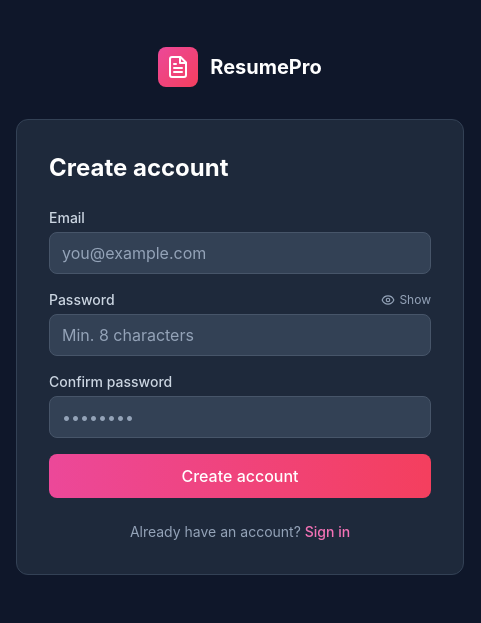
Test: Register page › shows API error on failed registration
Type "taken@user.com" into the field with placeholder "you@example.com". click: point(240, 253)
box: [49,232,431,274]
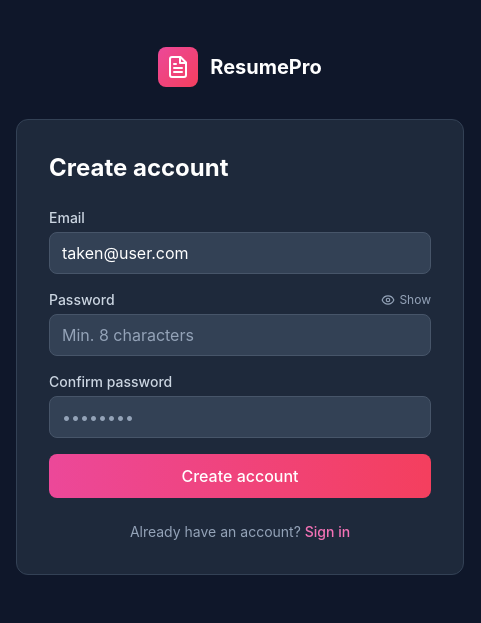
Type "password123" into the password field with placeholder "Min. 8 characters". click: point(240, 335)
box: [49,314,431,356]
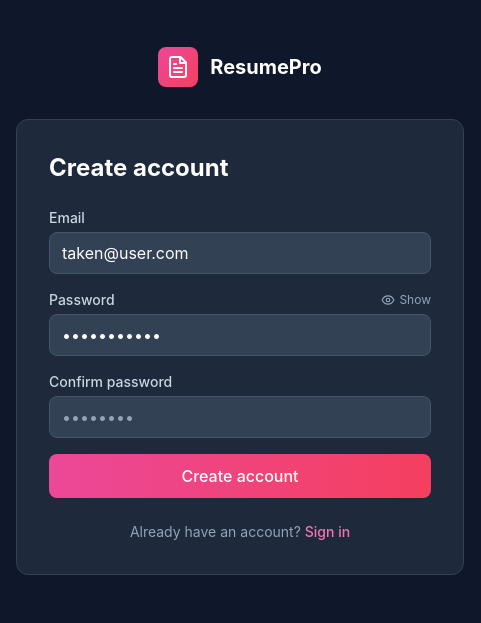
Type "password123" into the password field with placeholder "••••••••". click: point(240, 417)
box: [49,396,431,438]
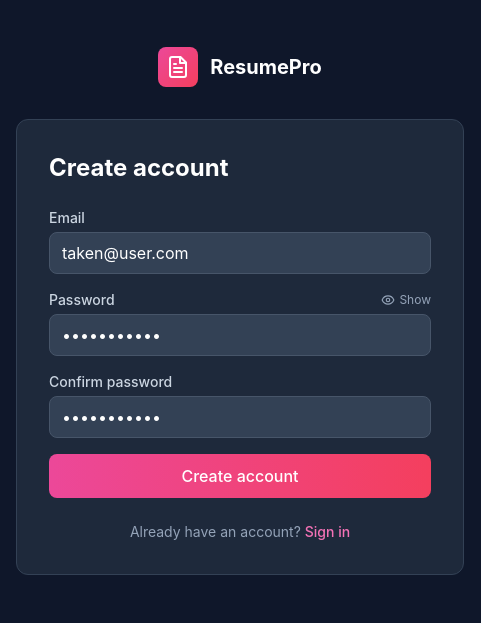
Click the button "Create account". click: point(240, 476)
box: [49,454,431,498]
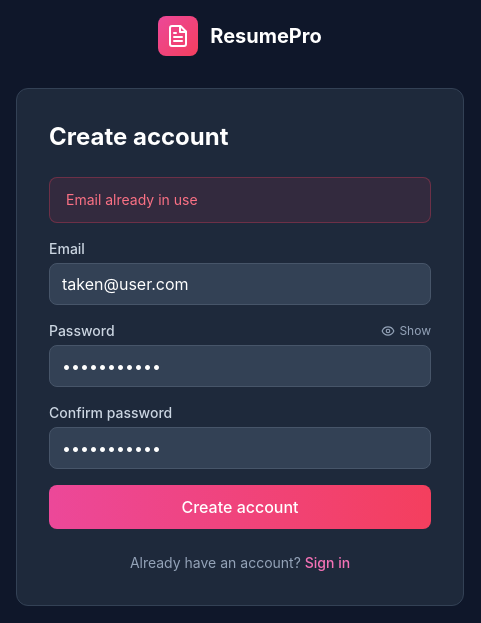
Check: the text "Email already in use" is shown, box [49,177,431,223]
